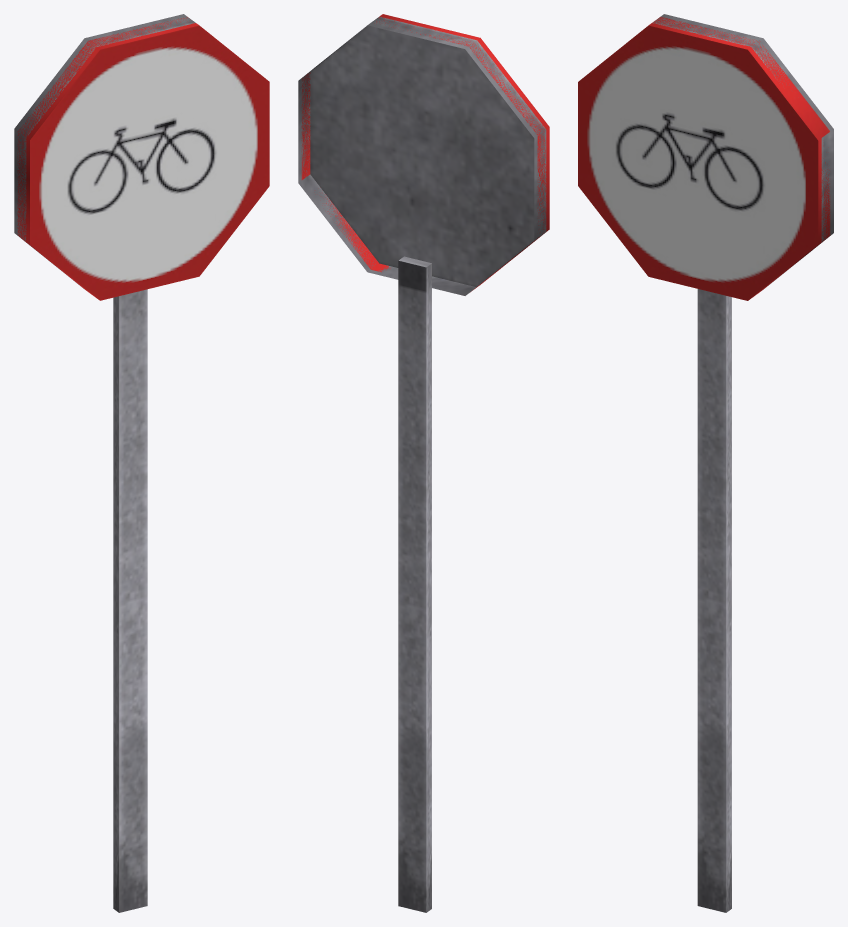
Rendered from signal3.FBX.
3 renders of one model, left to right at view 1: azimuth 30°, elevation 25°; view 2: azimuth 150°, elevation 25°; view 3: azimuth 330°, elevation 25°, orthographic.
Parts seen in each view (by area): view 1: prop_signal3_LOD0; view 2: prop_signal3_LOD0; view 3: prop_signal3_LOD0.
Part boxes in pixels (box(x1,y1,x2,y2)): prop_signal3_LOD0: box(14, 14, 269, 912); prop_signal3_LOD0: box(298, 14, 549, 912); prop_signal3_LOD0: box(578, 14, 833, 912).
Size of what is drawn, in the model's own units: 0.7653 by 2.69 by 0.1157.
